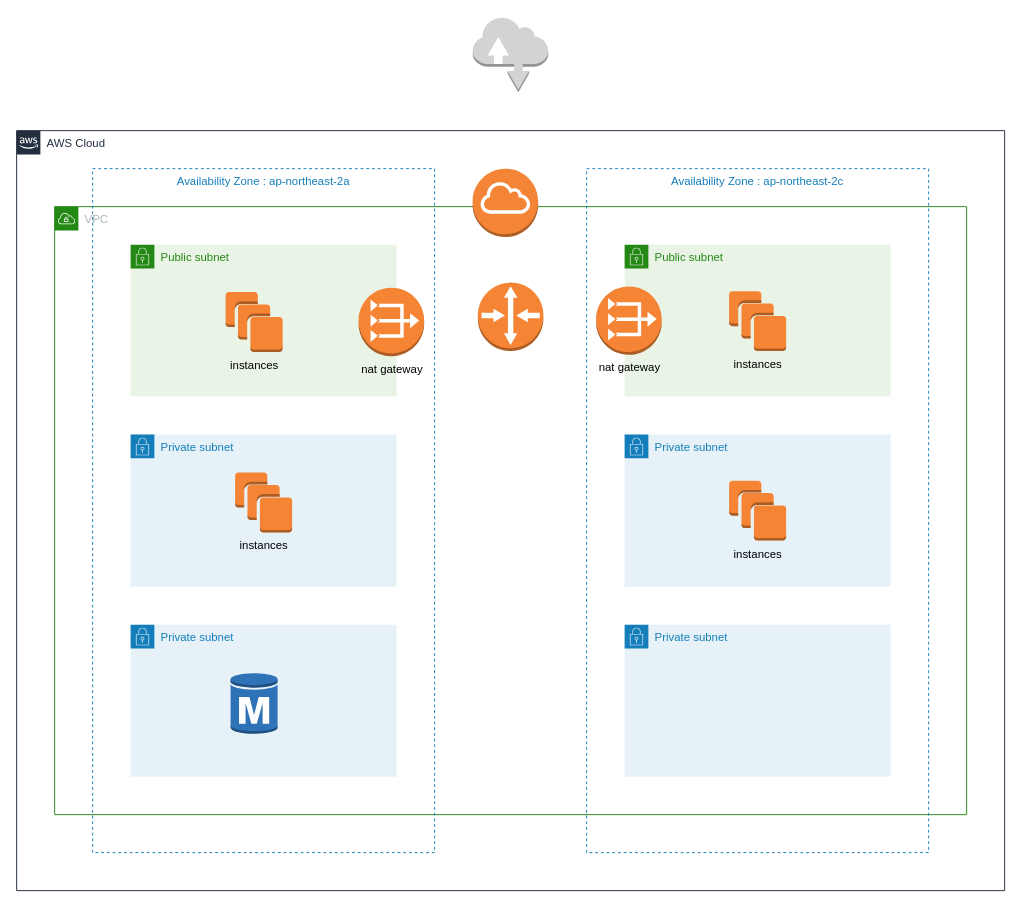
The diagram is 1021 pixels wide and 907 high, and some of its shapes have lost their labels. Here are the shapes that lost their labels. From the top down, the centre of each, then its label:
[510,54]: internet
[505,202]: internet gateway
[510,316]: router
